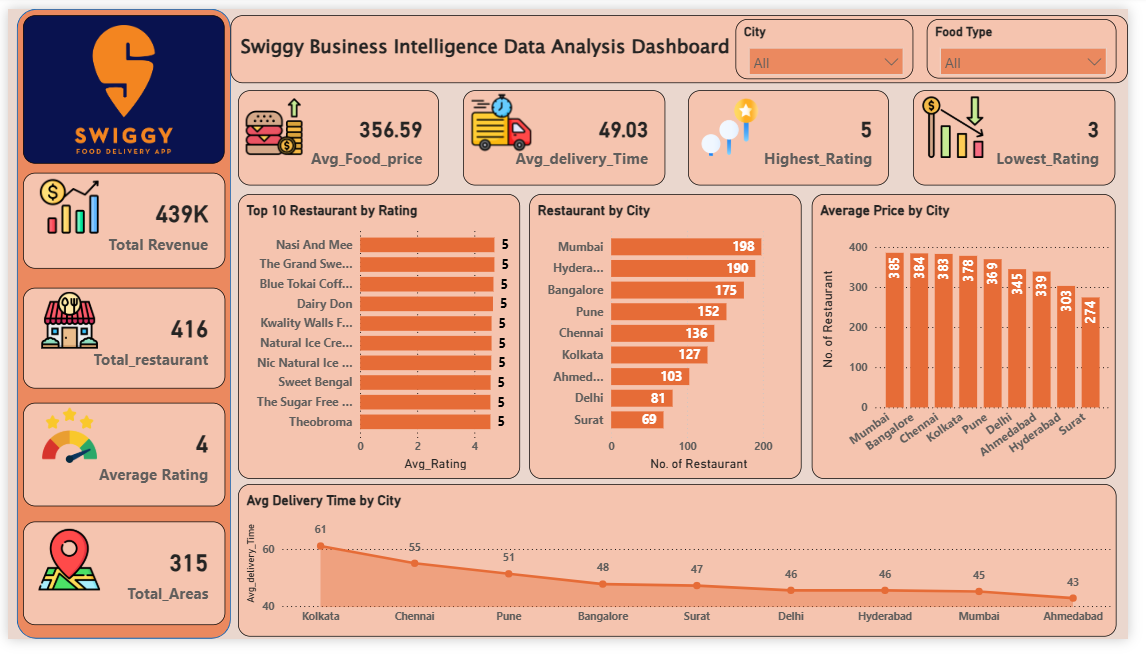

What the dashboard file says about the page in this screenshot:
{"tool":"powerbi","page":{"name":"Page 1","canvas":[1280,720],"ordinal":0},"visuals":[{"type":"shape","box":[10,0,244.6,719.6],"z":0},{"type":"image","box":[17.1,7.1,230.4,169.2],"z":1000},{"type":"cardVisual","title":"Total Revenue","fields":{"Data":["MeasureTable.Total_Revenue"]},"box":[17.3,187.6,230.8,109.6],"z":2000},{"type":"textbox","box":[253.9,7.2,1025.8,77.9],"z":3000},{"type":"cardVisual","title":"Total Restaurant","fields":{"Data":["MeasureTable.Total_restaurant"]},"box":[17.3,318.9,230.8,115.4],"z":4000},{"type":"cardVisual","title":"Total Areas","fields":{"Data":["MeasureTable.Total_Areas"]},"box":[17.3,585.8,230.8,118.3],"z":5000},{"type":"cardVisual","title":"Average Rating","fields":{"Data":["MeasureTable.Avg_Rating"]},"box":[17.3,450.1,230.8,118.3],"z":6000},{"type":"clusteredBarChart","title":"Restaurant by City","fields":{"Category":["swiggy.City"],"Y":["CountNonNull(swiggy.Restaurant)"]},"box":[596.2,211.8,311.5,325.7],"z":7000},{"type":"clusteredColumnChart","title":"Average Price by City","fields":{"Category":["swiggy.City"],"Y":["MeasureTable.Avg_Food_price"]},"box":[918.4,211.8,347.1,325.7],"z":8000},{"type":"lineChart","title":"Avg Delivery Time by City","fields":{"Y":["MeasureTable.Avg_delivery_Time"],"Category":["swiggy.City"]},"box":[263.4,542.8,1003.8,174.4],"z":9000},{"type":"slicer","title":"City","fields":{"Values":["swiggy.City","swiggy.Area"]},"box":[831.4,11.4,202.9,68.6],"z":10000},{"type":"slicer","title":"Food Type","fields":{"Values":["swiggy.Food type"]},"box":[1050.3,11.5,216.4,67.8],"z":11000},{"type":"cardVisual","title":"Total Restaurant","fields":{"Data":["MeasureTable.Avg_Food_price"]},"box":[263.4,92.5,229.6,109],"z":12000},{"type":"cardVisual","title":"Total Restaurant","fields":{"Data":["MeasureTable.Avg_delivery_Time"]},"box":[519.9,92.3,230.8,109],"z":13000},{"type":"cardVisual","title":"Average Rating","fields":{"Data":["MeasureTable.Highest_Rating"]},"box":[777.8,92.5,229.6,109],"z":14000},{"type":"cardVisual","title":"Average Rating","fields":{"Data":["MeasureTable.Lowest_Rating"]},"box":[1034.1,92.5,231.4,109],"z":15000},{"type":"clusteredBarChart","title":"Top 10 Restaurant by Rating","fields":{"Y":["MeasureTable.Avg_Rating"],"Category":["swiggy.Restaurant"]},"box":[263.4,211.8,322.1,325.7],"z":16000},{"type":"image","box":[30,187.1,80,77.1],"z":17000},{"type":"image","box":[30,318.6,80,74.3],"z":18000},{"type":"image","box":[30,450,80,74.3],"z":19000},{"type":"image","box":[30,582.9,80,92.9],"z":20000},{"type":"image","box":[265.7,92.9,77.1,82.9],"z":21000},{"type":"image","box":[517.1,88.6,92.9,82.9],"z":22000},{"type":"image","box":[778.6,94.3,92.9,81.4],"z":23000},{"type":"image","box":[1034.3,94.3,91.4,81.4],"z":24000}]}

Visuals, with their boxes in screenshot pixels (x1, y1, x2, y2), scaled from the page's 1280x720 canvas onto the 1146x654 screenshot:
shape: <bbox>9, 0, 228, 653</bbox>
image: <bbox>15, 6, 222, 160</bbox>
"Total Revenue" cardVisual: <bbox>15, 170, 222, 270</bbox>
textbox: <bbox>227, 7, 1145, 77</bbox>
"Total Restaurant" cardVisual: <bbox>15, 290, 222, 394</bbox>
"Total Areas" cardVisual: <bbox>15, 532, 222, 640</bbox>
"Average Rating" cardVisual: <bbox>15, 409, 222, 516</bbox>
"Restaurant by City" clusteredBarChart: <bbox>534, 192, 813, 488</bbox>
"Average Price by City" clusteredColumnChart: <bbox>822, 192, 1133, 488</bbox>
"Avg Delivery Time by City" lineChart: <bbox>236, 493, 1135, 651</bbox>
"City" slicer: <bbox>744, 10, 926, 73</bbox>
"Food Type" slicer: <bbox>940, 10, 1134, 72</bbox>
"Total Restaurant" cardVisual: <bbox>236, 84, 441, 183</bbox>
"Total Restaurant" cardVisual: <bbox>465, 84, 672, 183</bbox>
"Average Rating" cardVisual: <bbox>696, 84, 902, 183</bbox>
"Average Rating" cardVisual: <bbox>926, 84, 1133, 183</bbox>
"Top 10 Restaurant by Rating" clusteredBarChart: <bbox>236, 192, 524, 488</bbox>
image: <bbox>27, 170, 98, 240</bbox>
image: <bbox>27, 289, 98, 357</bbox>
image: <bbox>27, 409, 98, 476</bbox>
image: <bbox>27, 529, 98, 614</bbox>
image: <bbox>238, 84, 307, 160</bbox>
image: <bbox>463, 80, 546, 156</bbox>
image: <bbox>697, 86, 780, 160</bbox>
image: <bbox>926, 86, 1008, 160</bbox>
